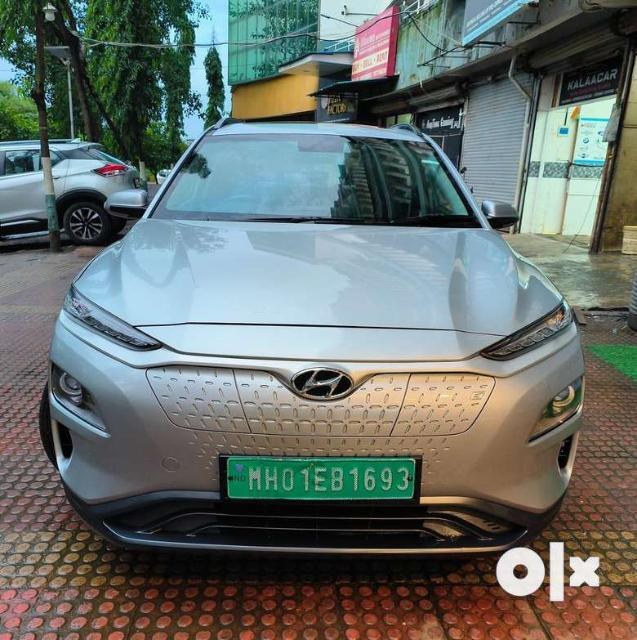Indian_Number_Plate: (219, 454, 423, 504)
